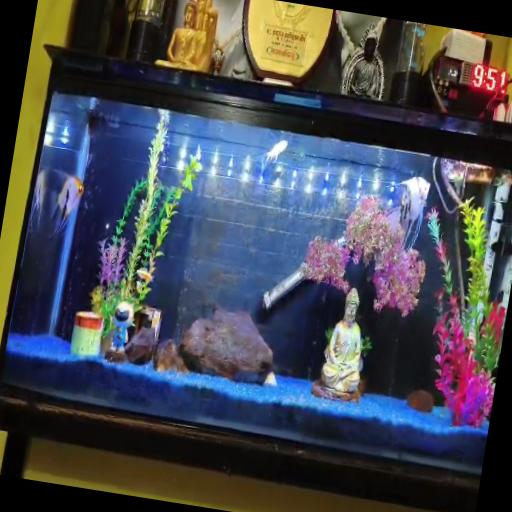Fish: (30, 169, 84, 238), (388, 177, 431, 250), (262, 141, 288, 170), (137, 269, 152, 282)
